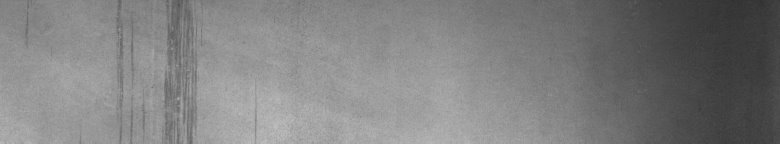ka: (117, 4, 204, 136)
